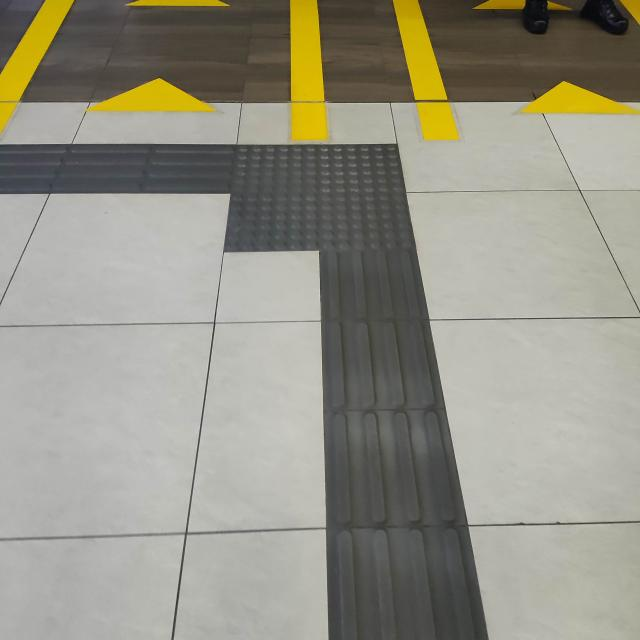kiri: (83, 108, 502, 326)
